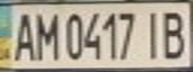0: (60, 8, 84, 61)
1: (100, 8, 121, 60)
4: (81, 8, 103, 61)
7: (115, 7, 142, 60)
A: (6, 8, 39, 62)
B: (157, 7, 190, 61)
I: (139, 7, 166, 61)
M: (30, 8, 60, 62)
